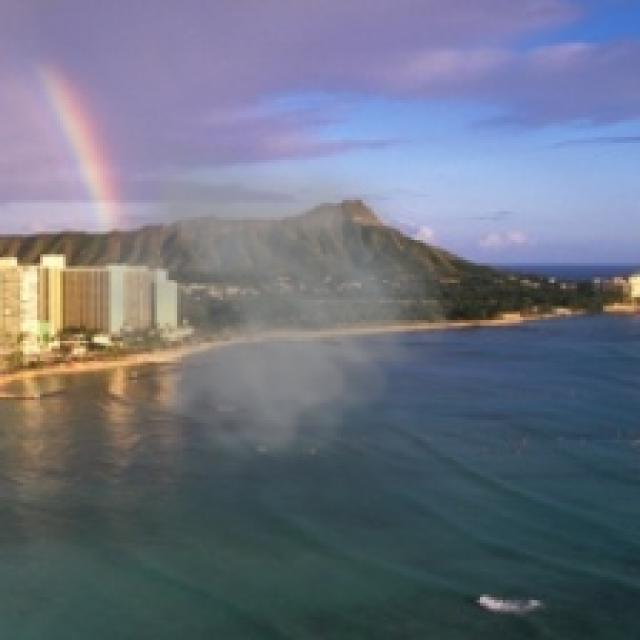Smoke: (54, 146, 472, 492)
